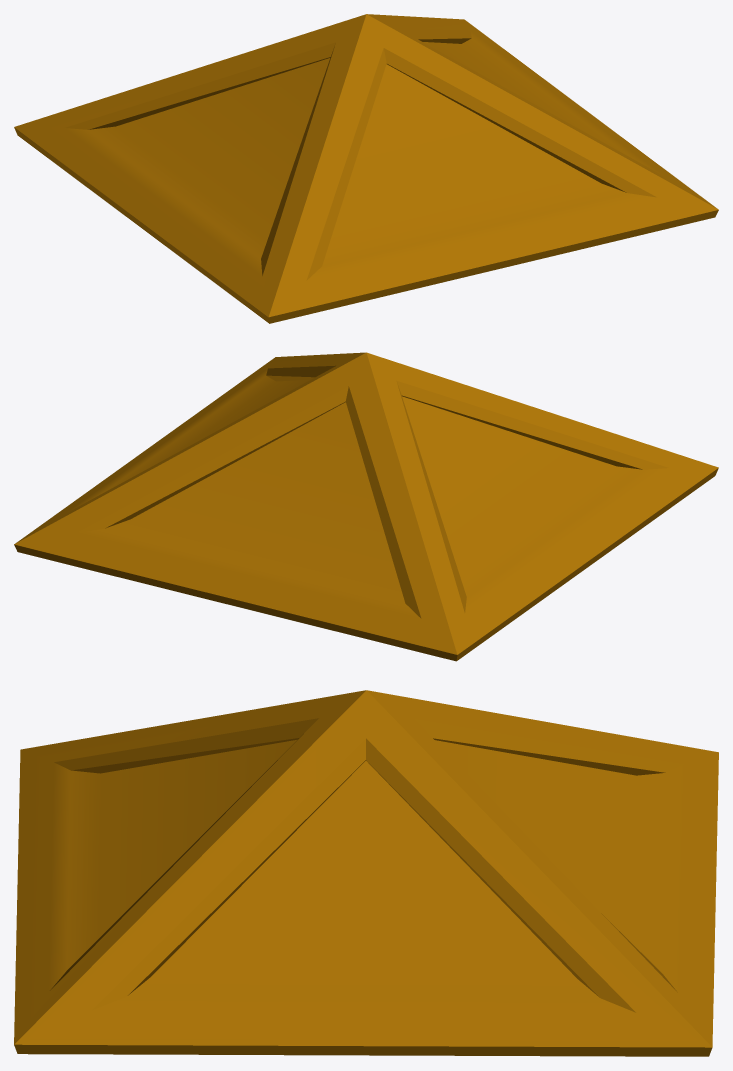
The picture shows the model from 3 angles, top to bottom: view 1: azimuth 30°, elevation 25°; view 2: azimuth 150°, elevation 25°; view 3: azimuth 270°, elevation 25°; orthographic projection. The views are drawn at different scales.
Visible parts, largest first — view 1: piramide; view 2: piramide; view 3: piramide.
Boxes of the visible parts, x1,y1,x2,y2 form: piramide: (14, 14, 718, 323); piramide: (14, 352, 718, 661); piramide: (14, 690, 718, 1056).
Size of the model in its own units: 5.83 by 2 by 5.83.
